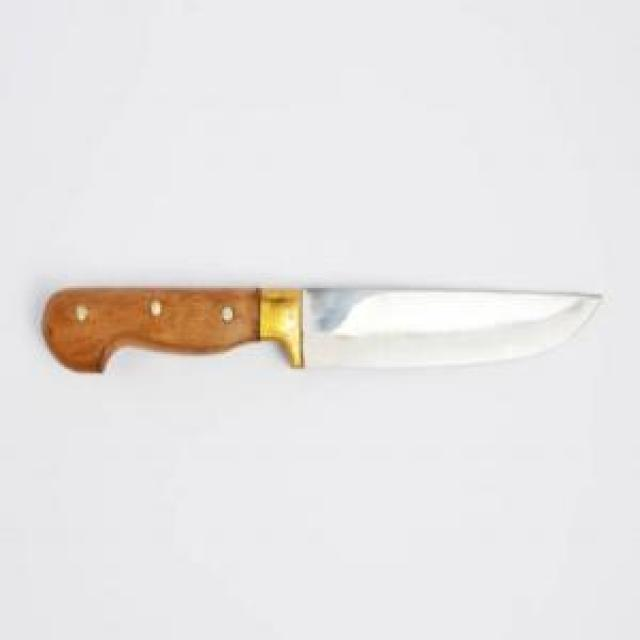knife: (38, 282, 603, 379)
